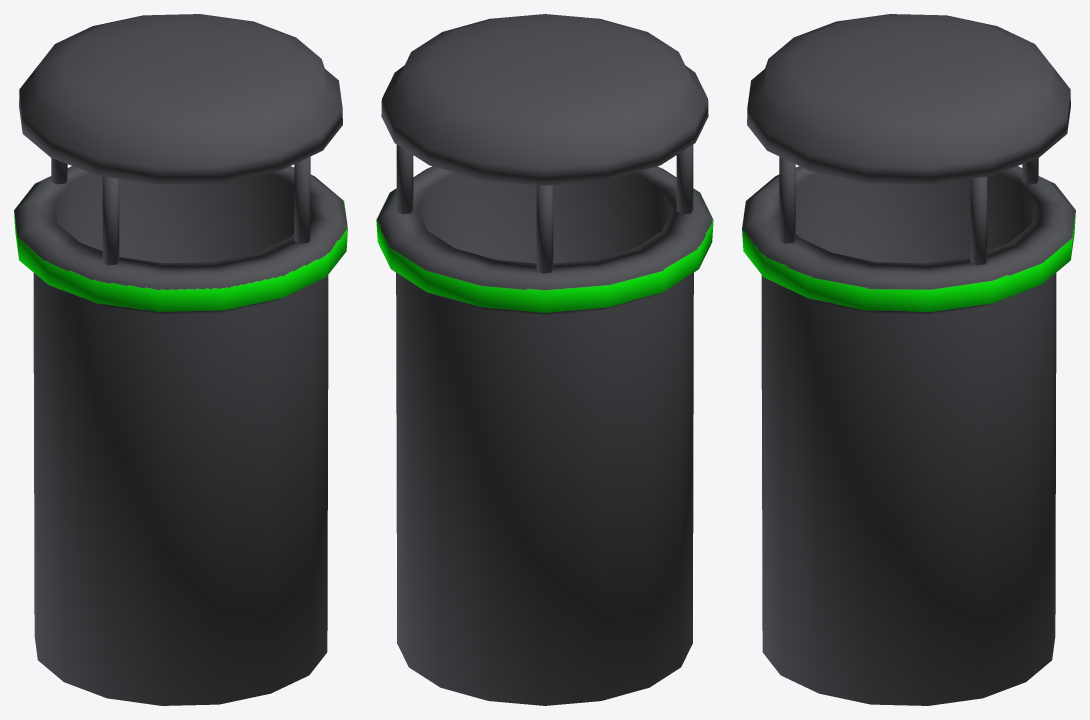
File: Trash_bin.fbx
The picture shows the model from 3 angles, left to right: view 1: azimuth 30°, elevation 25°; view 2: azimuth 150°, elevation 25°; view 3: azimuth 270°, elevation 25°; orthographic projection.
Visible parts, largest first — view 1: Bin_Without_Garbage; view 2: Bin_Without_Garbage; view 3: Bin_Without_Garbage.
Boxes of the visible parts, <box> form: Bin_Without_Garbage: <box>14,14,347,705</box>; Bin_Without_Garbage: <box>376,14,713,705</box>; Bin_Without_Garbage: <box>742,14,1075,705</box>.
Bounding box in the file's own units: 46.35 × 90.31 × 46.35.
Materials: 1 (1 with a texture image).
